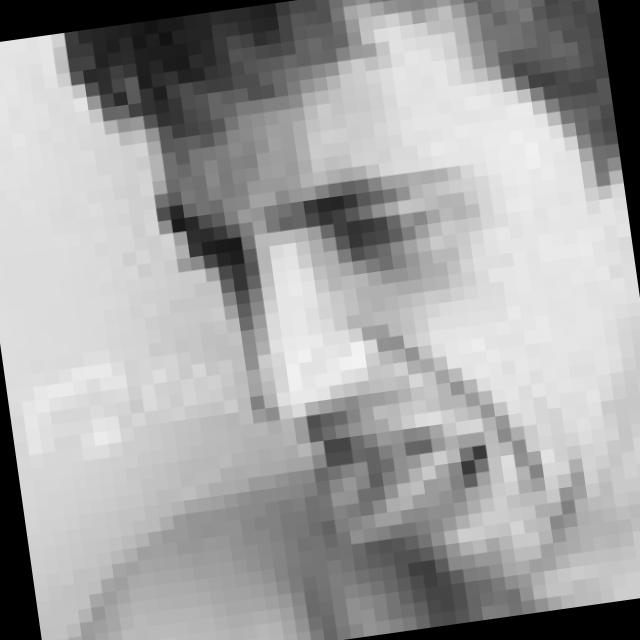disgust: (161, 152, 552, 578)
